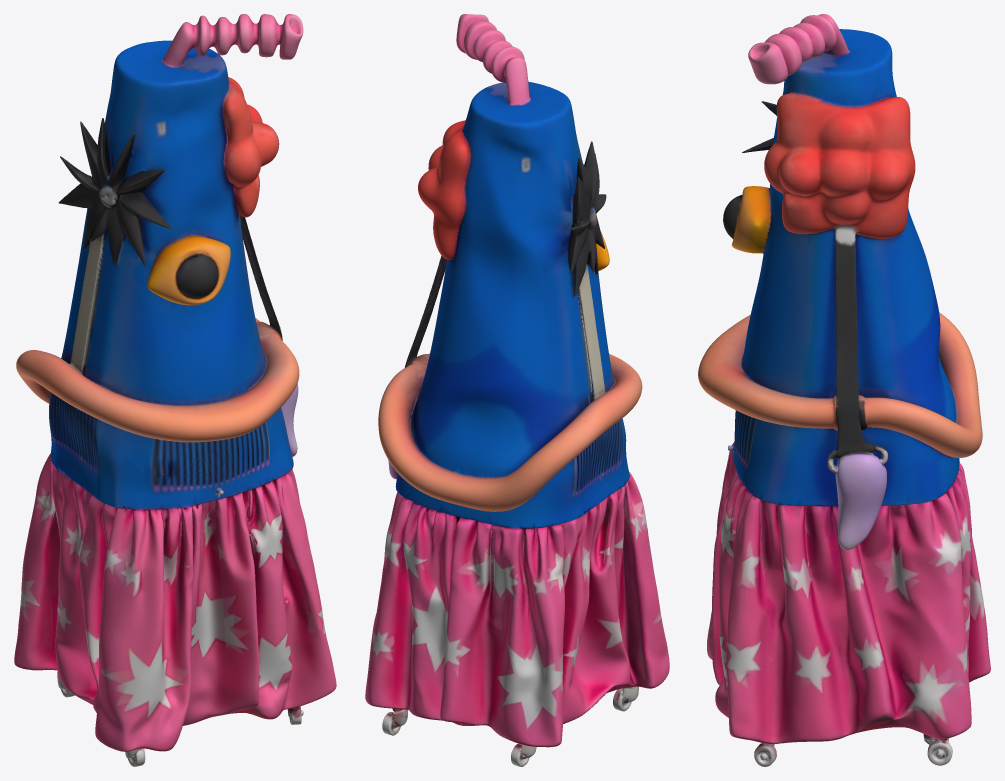
Rendered from LA XIM.glb.
3 views of the same model, side by side, from view 1: azimuth 30°, elevation 25°; view 2: azimuth 150°, elevation 25°; view 3: azimuth 270°, elevation 25° (orthographic). The views are drawn at different scales.
Size of the model in its own units: 0.7347 by 2 by 0.737.
Materials: 1 (1 with a texture image).
